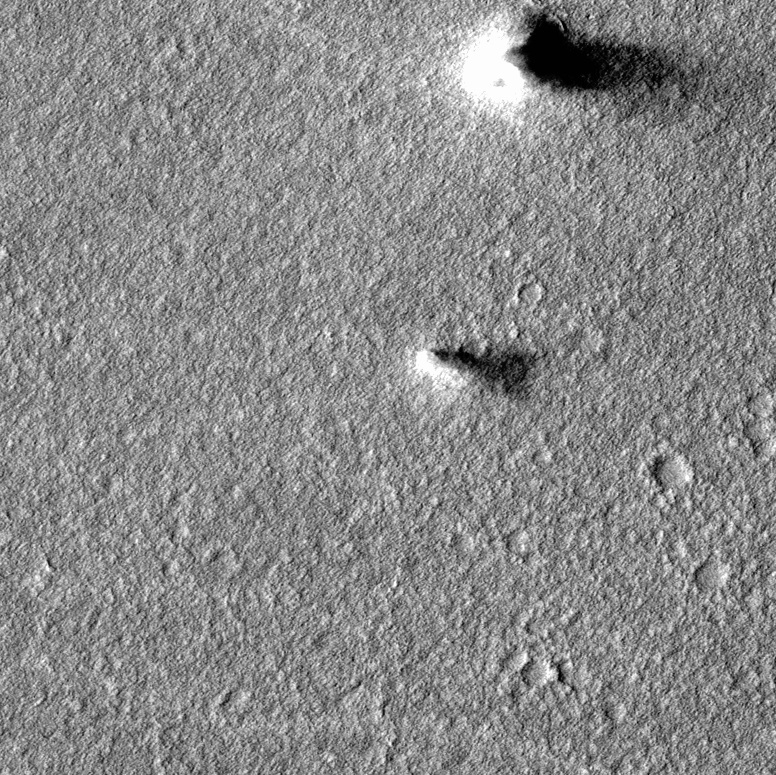dust_devil: (454, 1, 702, 124), (411, 343, 538, 404)
